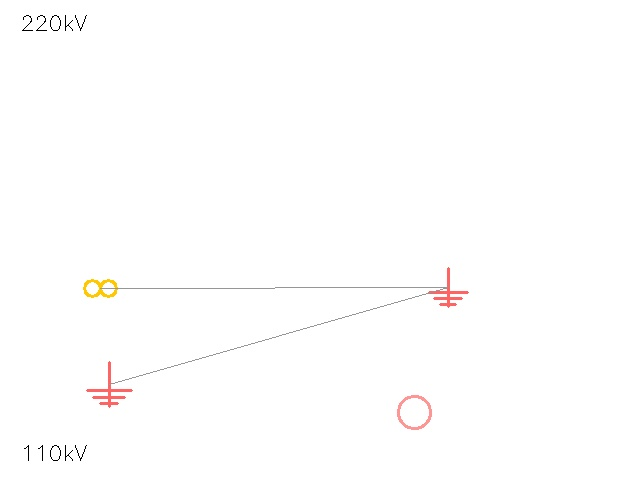feeder_terminal: (381, 379, 447, 445)
ground: (87, 362, 131, 406), (429, 268, 467, 306)
transformer_2w: (80, 268, 120, 308)
